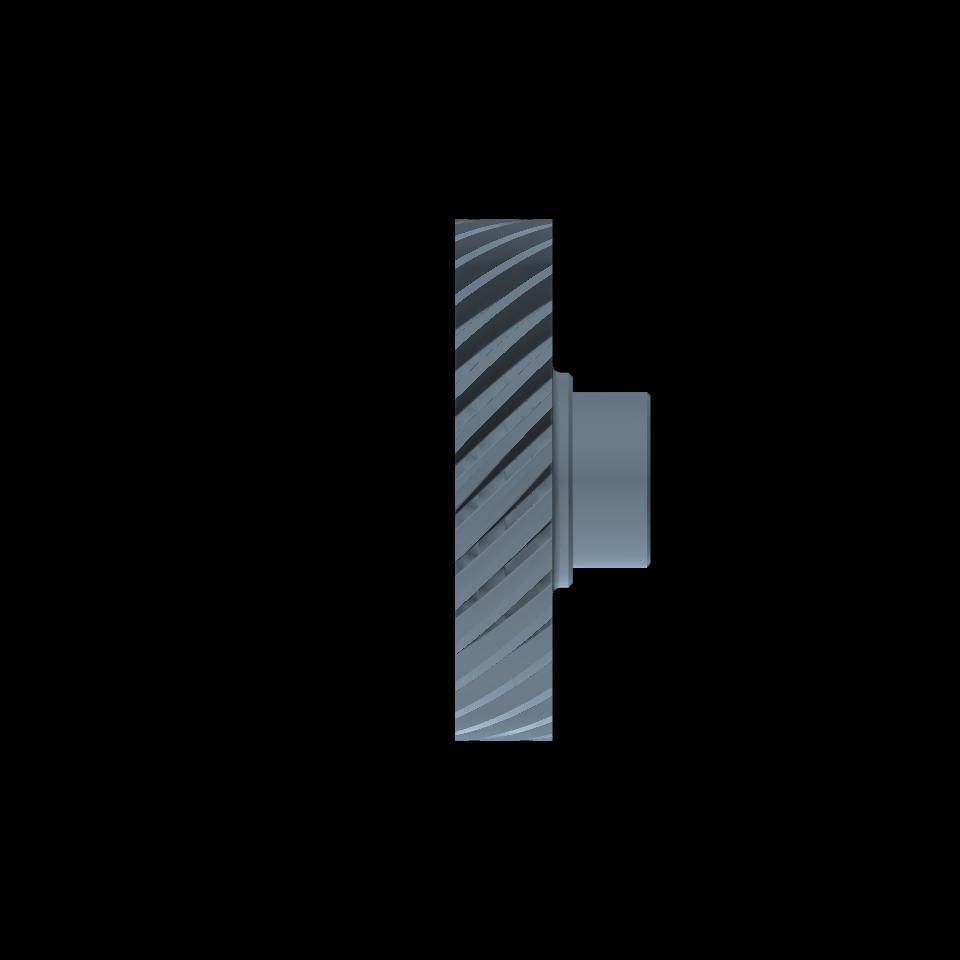Helical: (455, 219, 553, 739)
